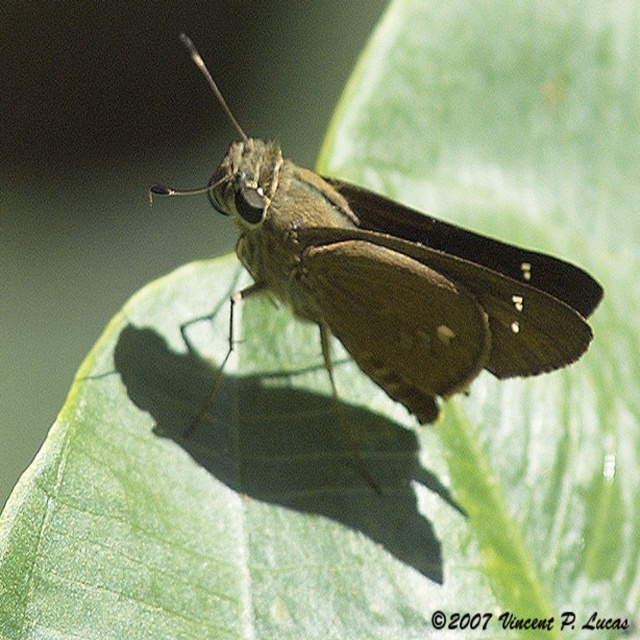Butterfly: (156, 71, 607, 421)
